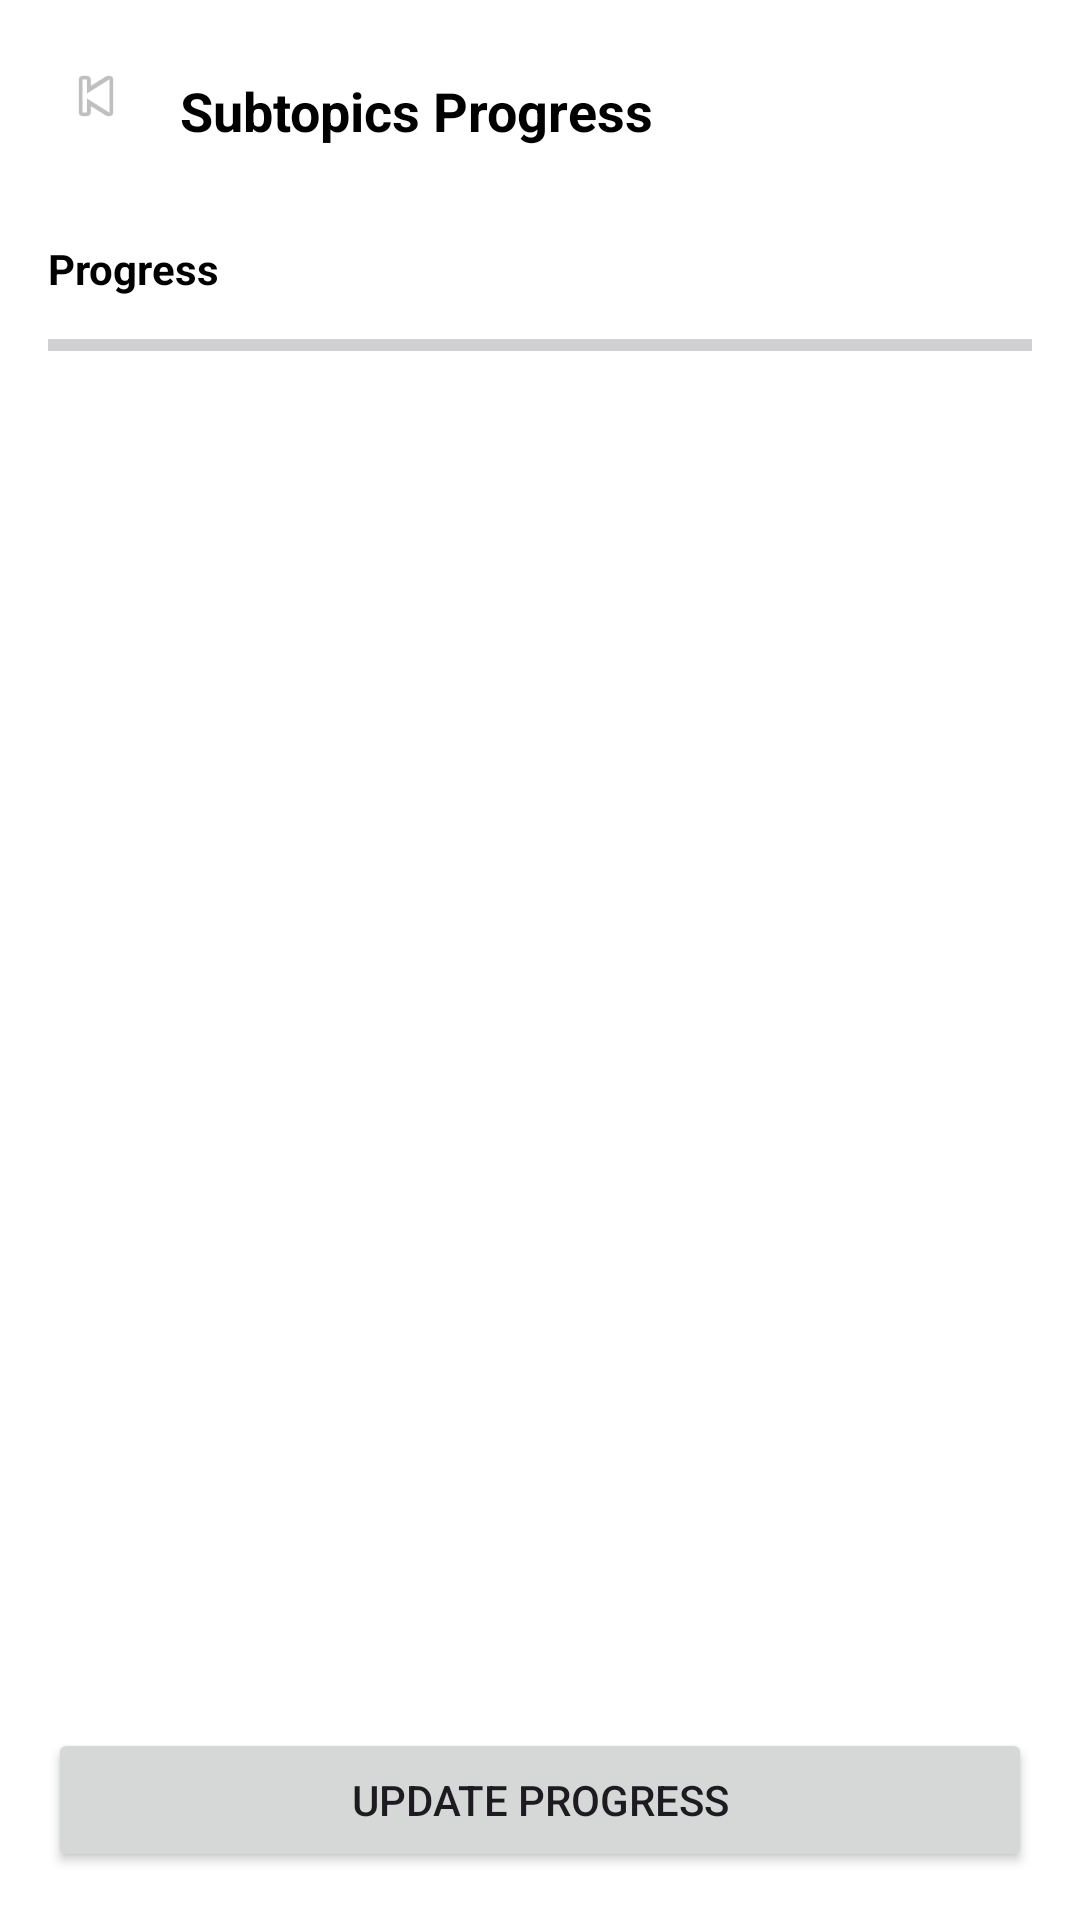

Where to tap for icons on this 1080*1920 app screen, as (x=x, y=y):
Back: (x=96, y=96)
